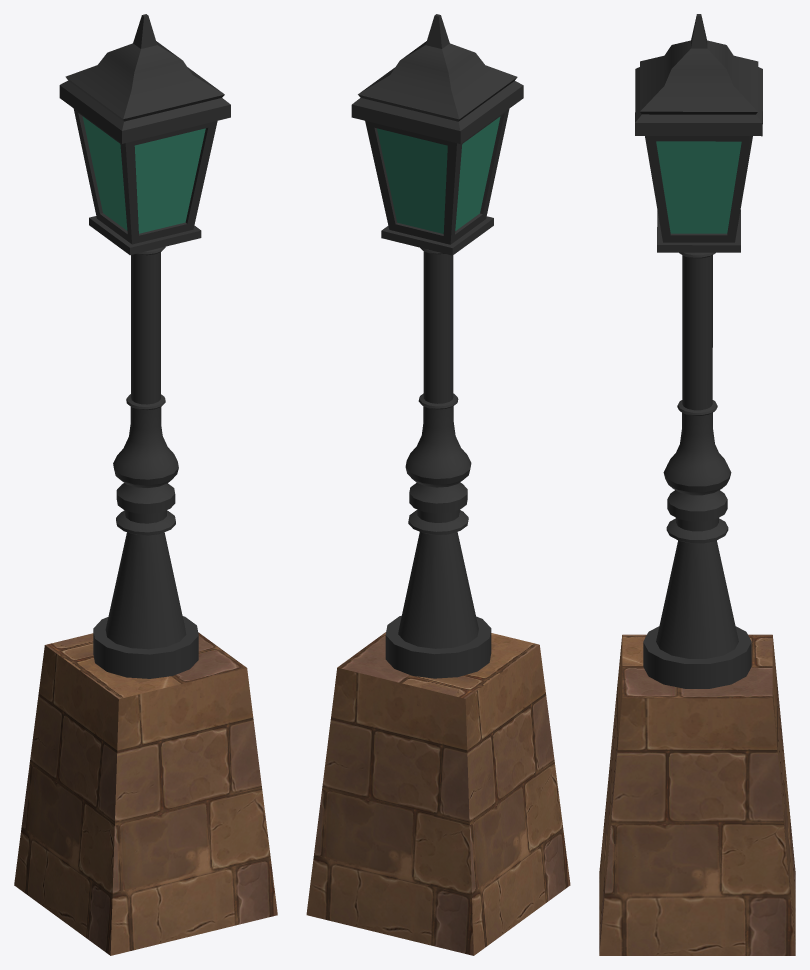
Rendered from Streetlight1.fbx.
3 renders of one model, left to right at view 1: azimuth 30°, elevation 25°; view 2: azimuth 150°, elevation 25°; view 3: azimuth 270°, elevation 25°, orthographic.
Visible parts, largest first — view 1: Lamp2; view 2: Lamp2; view 3: Lamp2.
Boxes of the visible parts, box(x1,y1,x2,y2) form: Lamp2: box(14, 14, 277, 955); Lamp2: box(306, 14, 570, 955); Lamp2: box(599, 14, 795, 955).
Size of the model in its own units: 40.18 by 203 by 40.18.
3 materials, 2 textured.
